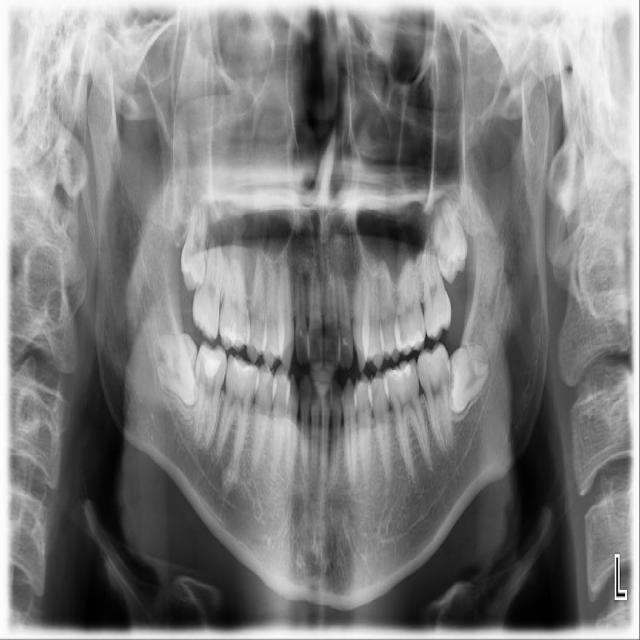Filling: (203, 351, 221, 378), (402, 329, 424, 349), (224, 324, 242, 344), (391, 364, 411, 376)
Periapical lesion: (221, 467, 242, 499)
impacted tooth: (447, 345, 490, 415), (431, 198, 467, 281), (156, 336, 197, 408), (182, 201, 206, 288)
